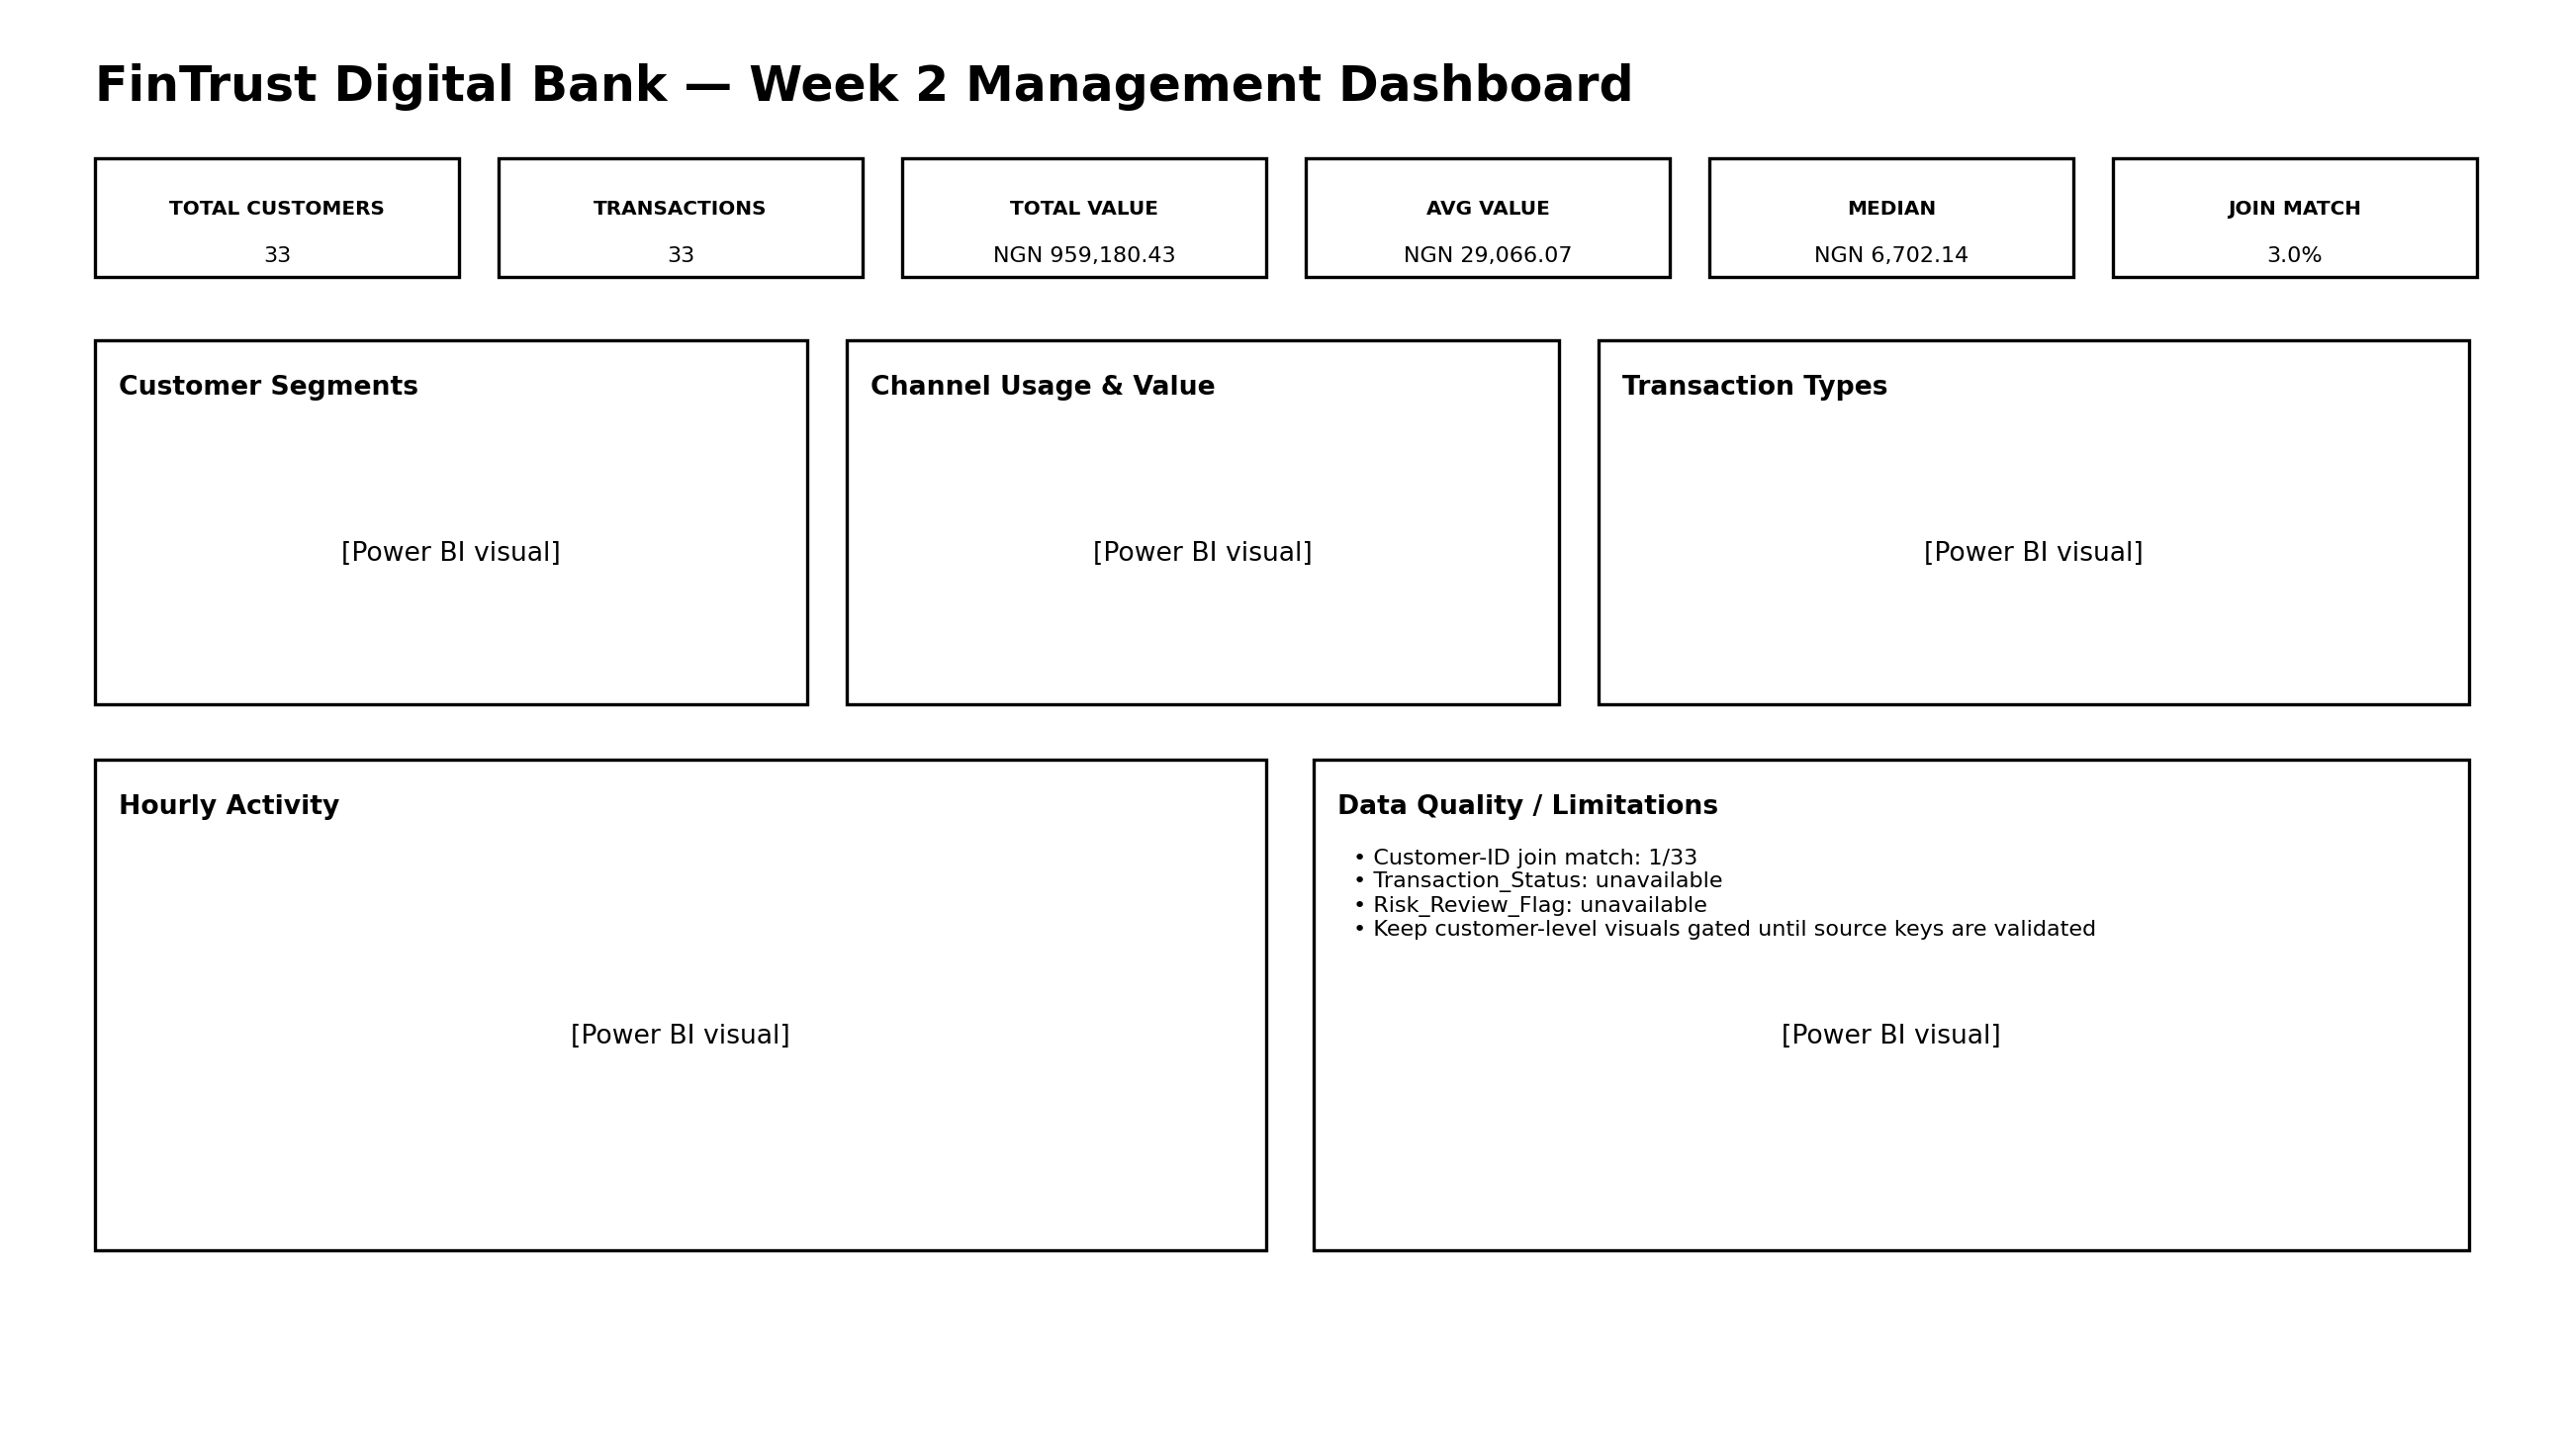

Layout of this report page (visuals, bound fields, positions):
{"tool":"powerbi","page":{"name":"Page 1","canvas":[1920,1080],"ordinal":0},"visuals":[{"type":"cardVisual","fields":{"Data":["FinTrust_Customer_Data.Total Customers"]},"box":[36.7,100.7,281.7,104.8],"z":0},{"type":"cardVisual","fields":{"Data":["FinTrust_Transaction_Data.Total Transactions"]},"box":[333.4,100.7,268.1,104.8],"z":1000},{"type":"cardVisual","fields":{"Data":["FinTrust_Transaction_Data.Total Transaction Value"]},"box":[621.9,100.7,302.1,104.8],"z":2000},{"type":"cardVisual","fields":{"Data":["FinTrust_Transaction_Data.Average Transaction Value"]},"box":[944.4,100.7,300.7,104.8],"z":3000},{"type":"cardVisual","fields":{"Data":["FinTrust_Transaction_Data.Median Transaction Value"]},"box":[1262.8,100.7,308.9,104.8],"z":4000},{"type":"cardVisual","fields":{"Data":["FinTrust_Transaction_Data.Join Match Rate"]},"box":[1596.1,100.7,272.8,105],"z":5000},{"type":"donutChart","fields":{"Category":["FinTrust_Customer_Data.Customer_Segment"],"Y":["CountNonNull(FinTrust_Customer_Data.Customer_ID)"]},"box":[35.4,243.6,566.1,412.3],"z":6000},{"type":"lineStackedColumnComboChart","fields":{"Category":["FinTrust_Transaction_Data.Channel"],"Y":["CountNonNull(FinTrust_Transaction_Data.Transaction_ID)"],"Y2":["Sum(FinTrust_Transaction_Data.Amount_NGN)"]},"box":[612.3,243.6,623.2,412.3],"z":6001},{"type":"clusteredColumnChart","fields":{"Category":["FinTrust_Transaction_Data.Transaction_Type"],"Y":["Sum(FinTrust_Transaction_Data.Amount_NGN)"]},"box":[1245.1,243.6,624.6,409.6],"z":6002},{"type":"tableEx","fields":{"Values":["FinTrust_Transaction_Data.Join Match Rate","FinTrust_Transaction_Data.Matched Transactions","FinTrust_Transaction_Data.Total Transactions"]},"box":[960.7,684.5,909,390.5],"z":6003},{"type":"lineChart","fields":{"Category":["FinTrust_Transaction_Data.Transaction Hour"],"Y":["CountNonNull(FinTrust_Transaction_Data.Transaction_ID)"]},"box":[36.7,684.5,915.8,391.9],"z":6004},{"type":"textbox","box":[35.4,5.4,1834.3,80.3],"z":6005}]}

Visuals, with their boxes in screenshot pixels (x1, y1, x2, y2), scaled from the page's 1920x1080 canvas onto the 2564x1456 screenshot:
cardVisual - FinTrust_Customer_Data.Total Customers: select_region(49, 136, 425, 277)
cardVisual - FinTrust_Transaction_Data.Total Transactions: select_region(445, 136, 803, 277)
cardVisual - FinTrust_Transaction_Data.Total Transaction Value: select_region(831, 136, 1234, 277)
cardVisual - FinTrust_Transaction_Data.Average Transaction Value: select_region(1261, 136, 1663, 277)
cardVisual - FinTrust_Transaction_Data.Median Transaction Value: select_region(1687, 136, 2099, 277)
cardVisual - FinTrust_Transaction_Data.Join Match Rate: select_region(2132, 136, 2496, 277)
donutChart - FinTrust_Customer_Data.Customer_Segment x CountNonNull(FinTrust_Customer_Data.Customer_ID): select_region(47, 328, 803, 884)
lineStackedColumnComboChart - FinTrust_Transaction_Data.Channel x CountNonNull(FinTrust_Transaction_Data.Transaction_ID): select_region(818, 328, 1650, 884)
clusteredColumnChart - FinTrust_Transaction_Data.Transaction_Type x Sum(FinTrust_Transaction_Data.Amount_NGN): select_region(1663, 328, 2497, 880)
tableEx - FinTrust_Transaction_Data.Join Match Rate x FinTrust_Transaction_Data.Matched Transactions: select_region(1283, 923, 2497, 1449)
lineChart - FinTrust_Transaction_Data.Transaction Hour x CountNonNull(FinTrust_Transaction_Data.Transaction_ID): select_region(49, 923, 1272, 1451)
textbox: select_region(47, 7, 2497, 116)
